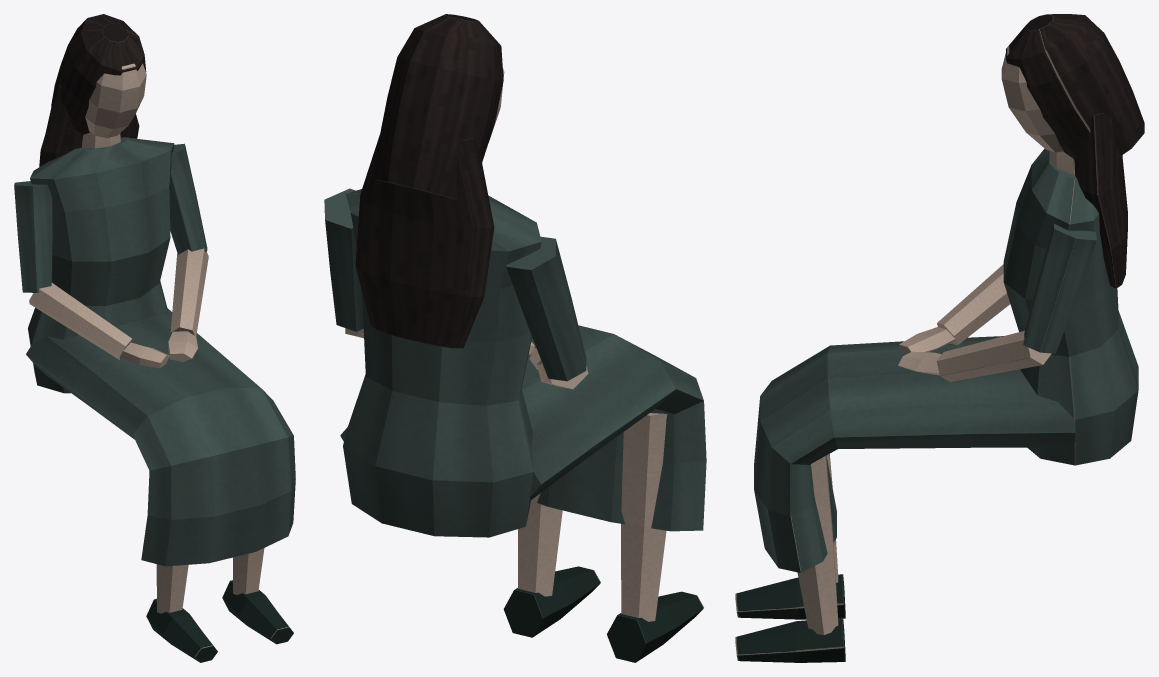
File: SM_Forest_Figure_Woman_Seated_50x80x130.fbx
3 renders of one model, left to right at view 1: azimuth 30°, elevation 25°; view 2: azimuth 150°, elevation 25°; view 3: azimuth 270°, elevation 25°, orthographic. The views are drawn at different scales.
Parts seen in each view (by area): view 1: SM_Forest_Figure_Woman_Seated_50x80x130.001; view 2: SM_Forest_Figure_Woman_Seated_50x80x130.001; view 3: SM_Forest_Figure_Woman_Seated_50x80x130.001.
Boxes of the visible parts, x1,y1,x2,y2 form: SM_Forest_Figure_Woman_Seated_50x80x130.001: (14,14,295,662); SM_Forest_Figure_Woman_Seated_50x80x130.001: (324,14,706,662); SM_Forest_Figure_Woman_Seated_50x80x130.001: (735,14,1144,662).
Bounding box in the file's own units: 0.4854 × 1.33 × 0.7975.
